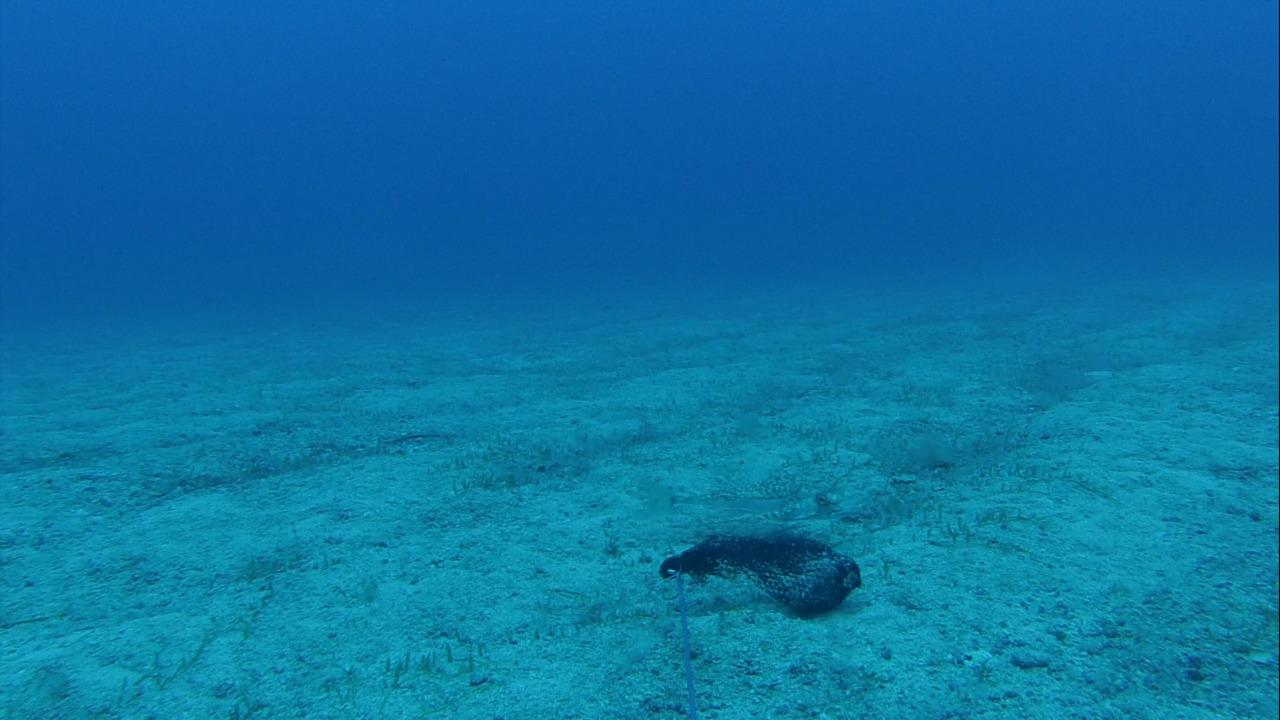dactylopterus: (642, 475, 848, 543)
